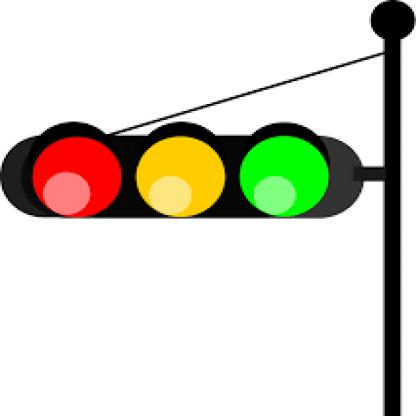traffic-light: (6, 118, 353, 224)
